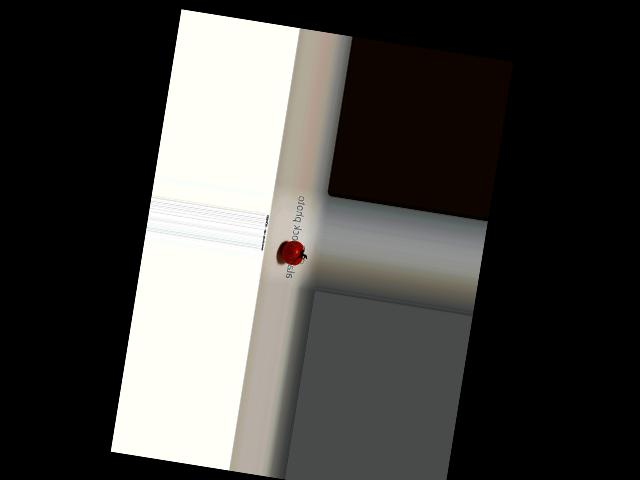tomato: (279, 238, 305, 266)
